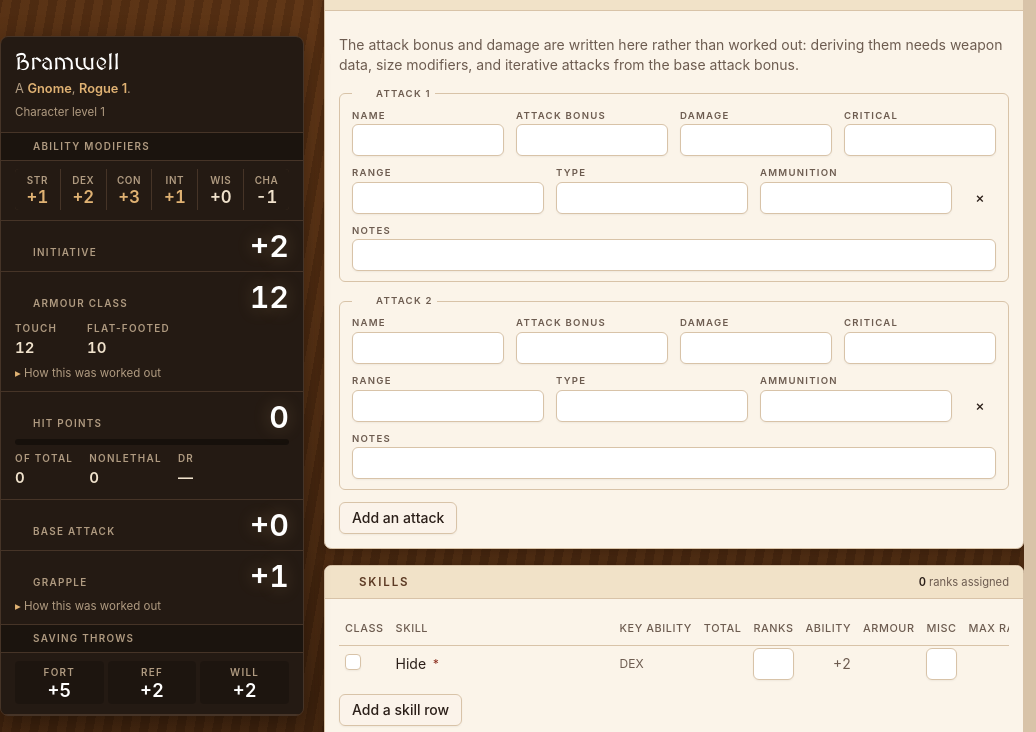
Test: the attack blocks › removes the block its button names, not the last one
(page scrolled)
Type "Sling" into the field labelled "Name" below "Attack 2" at (428, 348), box [352, 332, 504, 364]
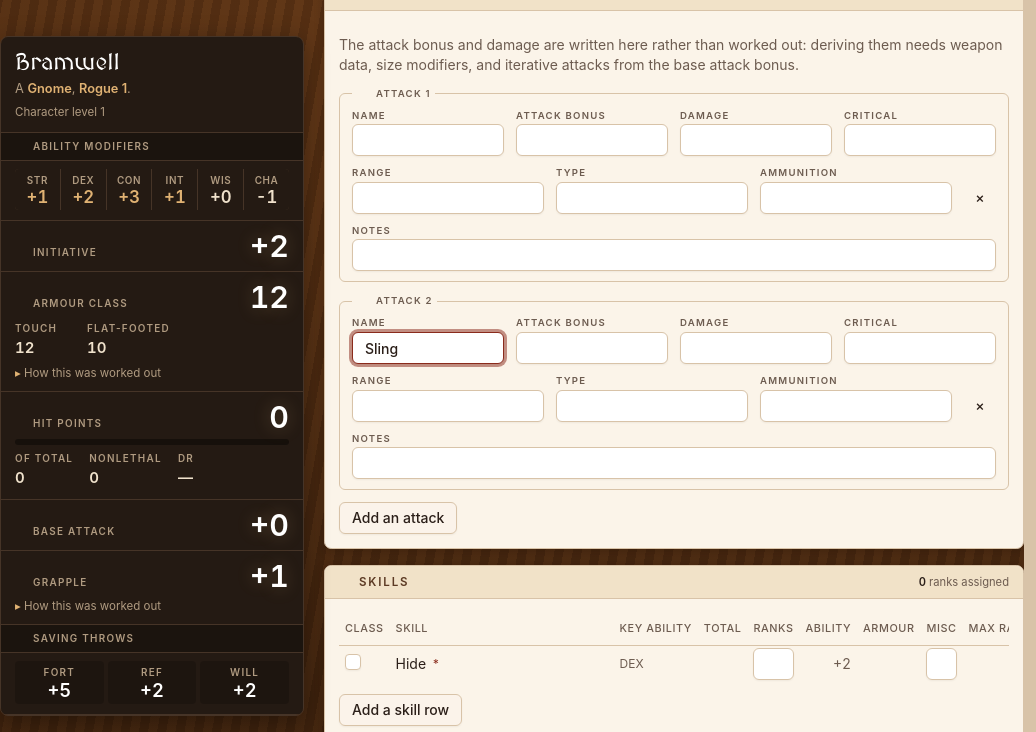
Click the button named "Remove attack 1" at (980, 198), box [964, 182, 996, 214]
(page scrolled)
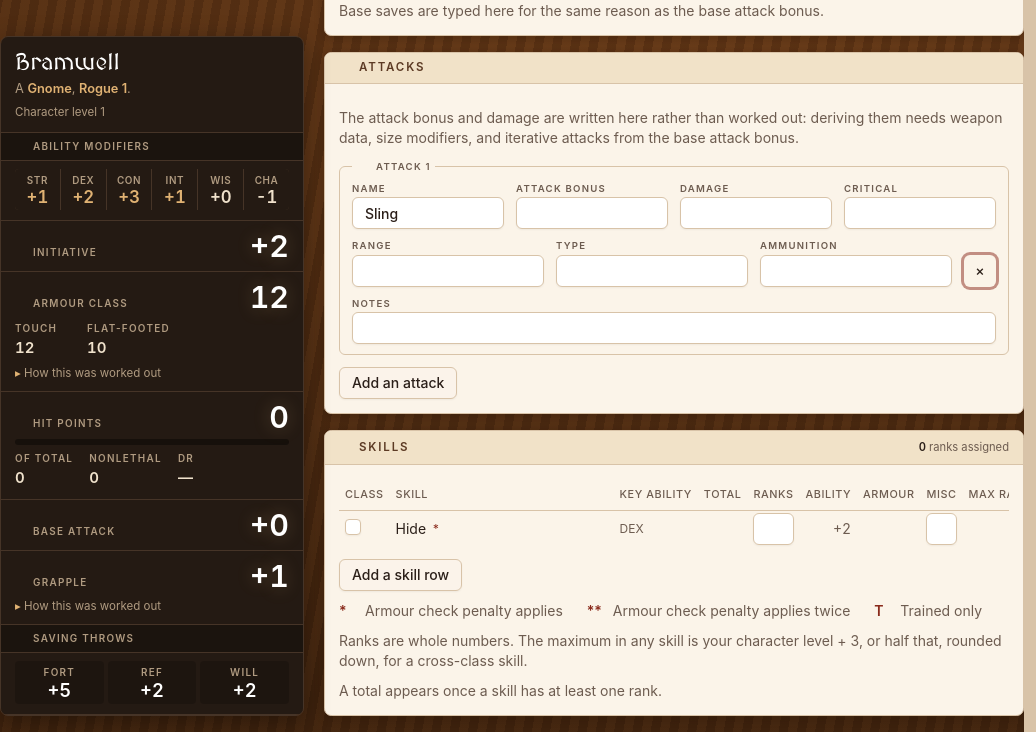
Check: the element "Attack 2" is gone
Check: the field labelled "Name" holds "Sling", box [352, 197, 504, 229]
